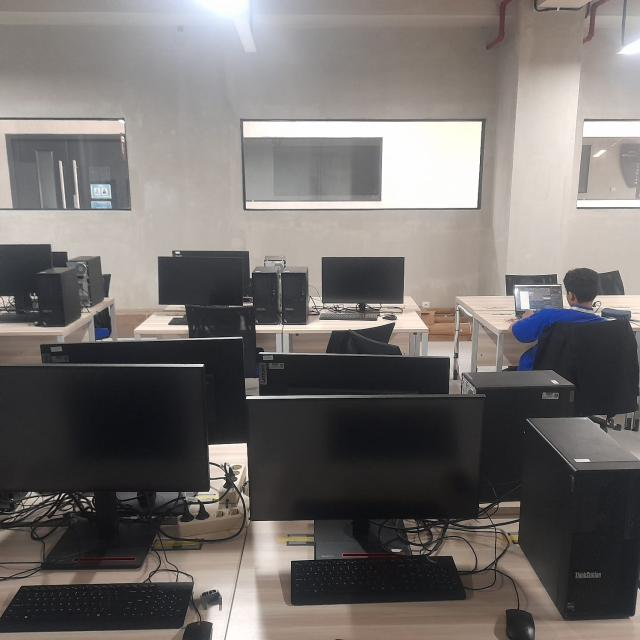keyboard: (0, 582, 195, 634), (290, 556, 467, 606), (319, 313, 377, 321), (0, 313, 40, 323), (168, 316, 188, 326)
monitor: (0, 363, 210, 570), (245, 394, 487, 560), (39, 337, 247, 445), (258, 353, 450, 396), (157, 255, 244, 316), (321, 256, 405, 314), (172, 249, 250, 298), (0, 243, 54, 313)
mouse: (504, 609, 536, 640), (182, 621, 213, 640), (382, 314, 397, 320)
pc: (517, 416, 640, 621), (460, 370, 574, 504), (36, 267, 82, 327), (66, 255, 106, 308), (281, 266, 309, 325), (252, 266, 280, 325), (264, 255, 286, 271)
